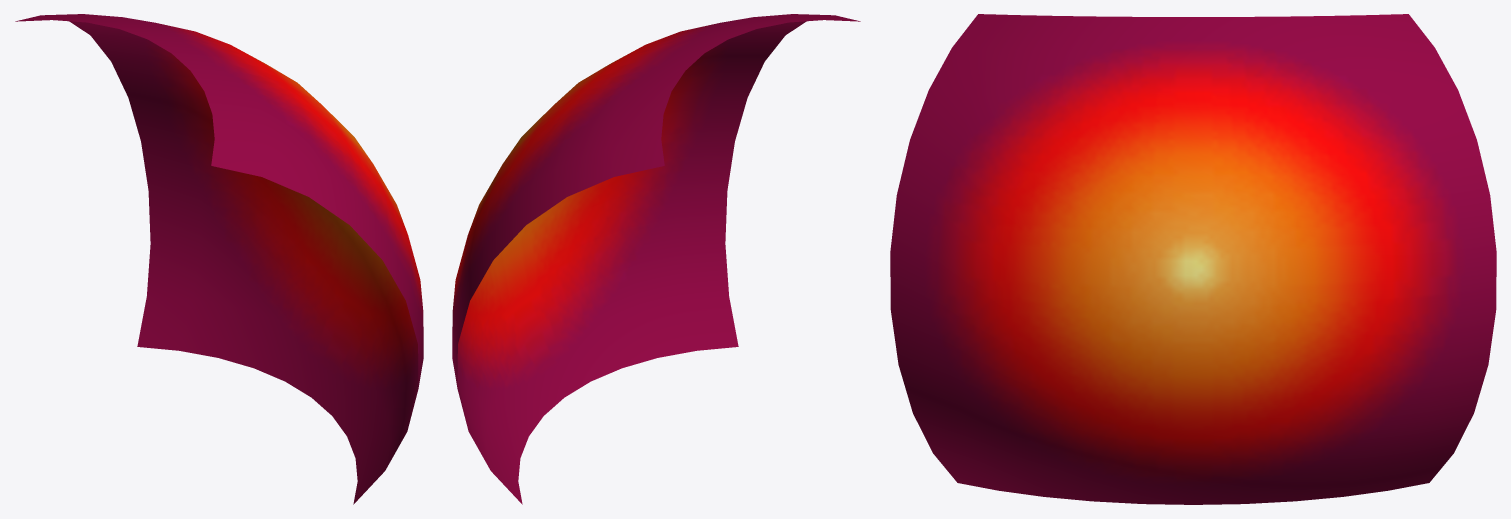
The model's file is Shield_Center.FBX.
3 renders of one model, left to right at view 1: azimuth 30°, elevation 25°; view 2: azimuth 150°, elevation 25°; view 3: azimuth 270°, elevation 25°, orthographic. The views are drawn at different scales.
Parts seen in each view (by area): view 1: transform; view 2: transform; view 3: transform.
Part boxes in pixels (x1,y1,x2,y2): transform: (15,14,423,504); transform: (452,14,860,504); transform: (890,14,1496,504).
Size of the model in its own units: 148 by 219 by 282.
